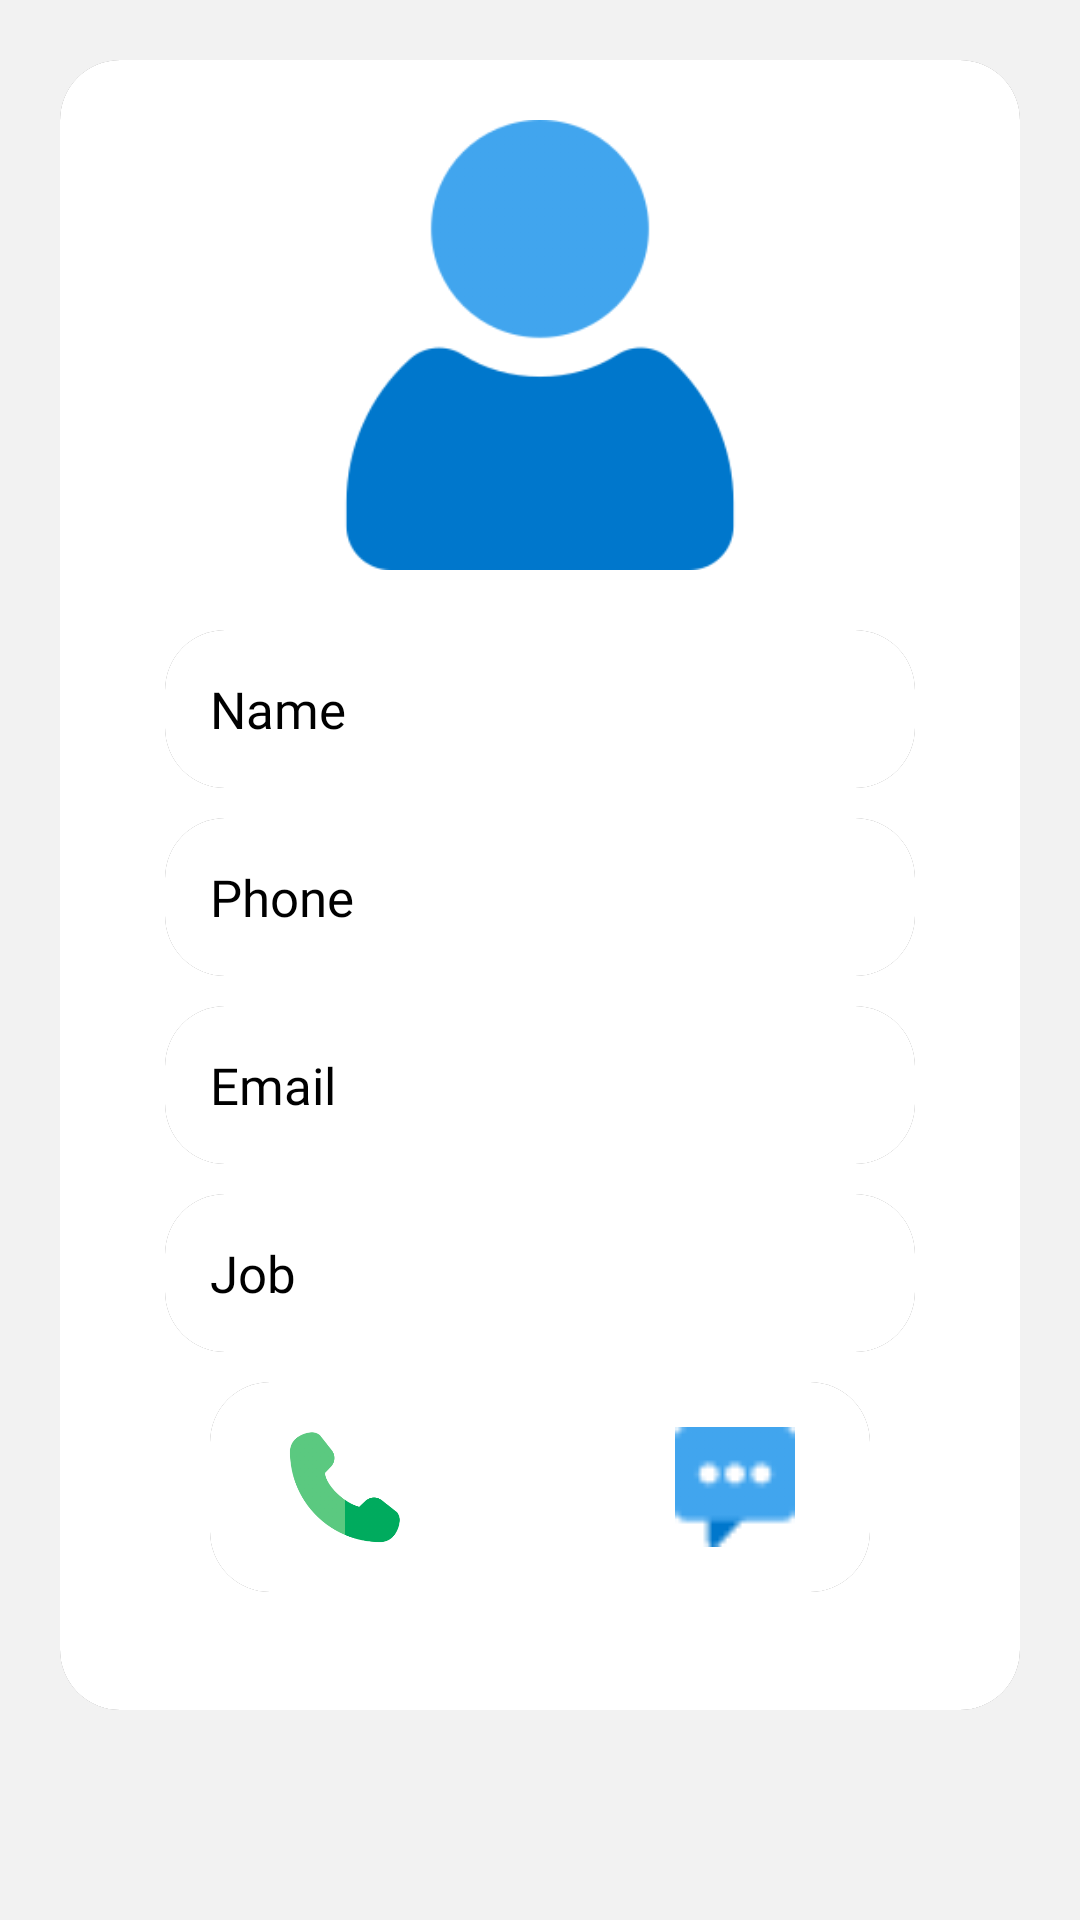

Where to tap for icons on this 1080×1920 app screen, as point (x, y):
message: point (735, 1487)
telephone: point (345, 1487)
